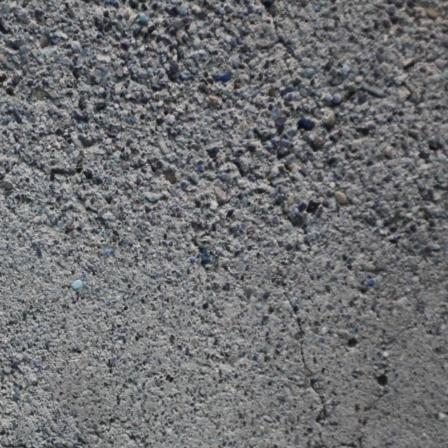crack: (253, 203, 364, 448)
